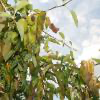Apple rust leaf: (78, 56, 95, 86), (36, 11, 47, 42), (2, 62, 14, 90), (60, 80, 76, 99), (29, 57, 40, 81), (2, 41, 14, 62), (25, 78, 36, 98), (91, 77, 99, 99), (37, 90, 43, 99), (48, 92, 54, 99)
